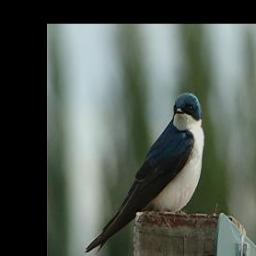Swallow: (85, 91, 205, 255)
